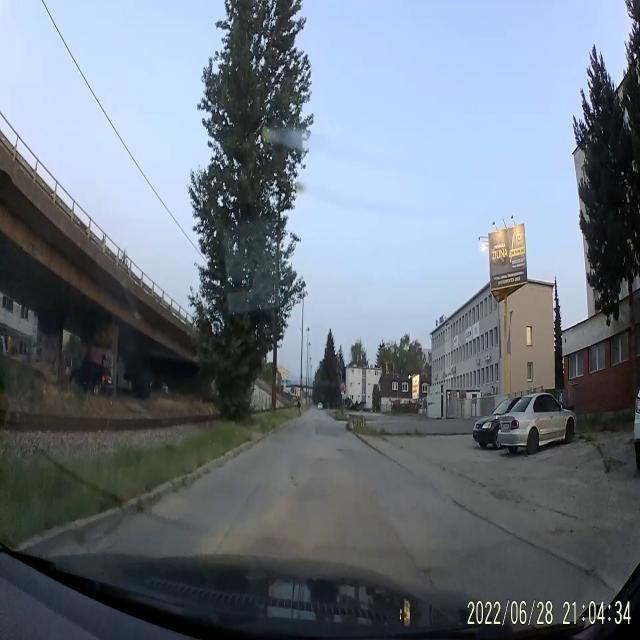Pothole: (416, 566, 433, 588), (288, 472, 300, 489), (337, 446, 352, 454), (318, 455, 328, 463)
